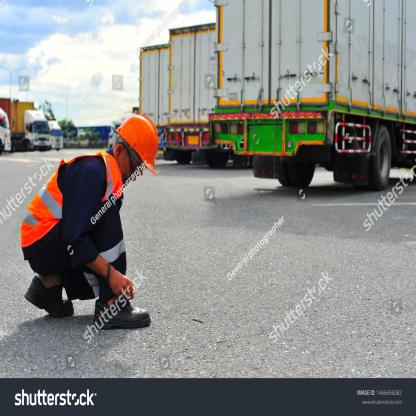bota: (23, 274, 75, 319), (92, 297, 154, 333)
capacete: (111, 107, 161, 179)
